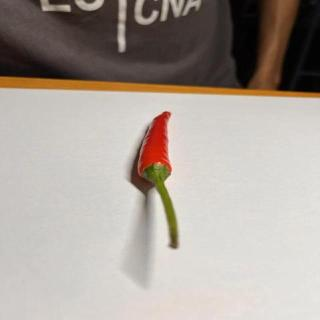Cabai Merah: (137, 112, 181, 250)
